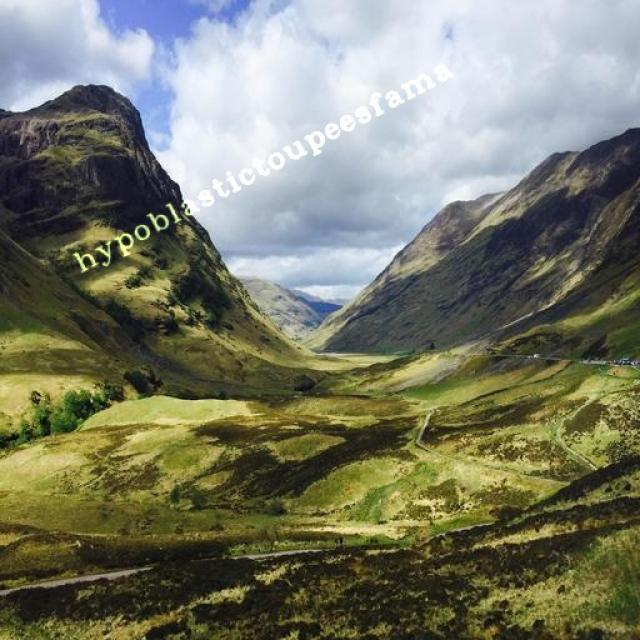watermark: (71, 51, 454, 277)
